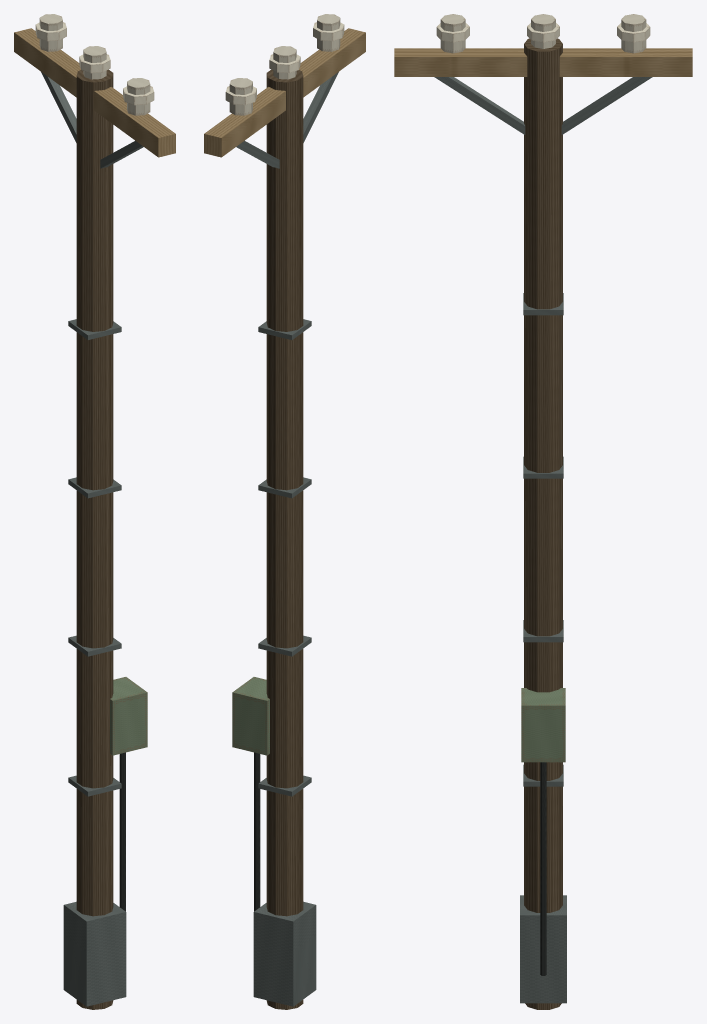
File: BackdropUtilityPole.fbx
3 renders of one model, left to right at view 1: azimuth 30°, elevation 25°; view 2: azimuth 150°, elevation 25°; view 3: azimuth 270°, elevation 25°, orthographic. The views are drawn at different scales.
Parts seen in each view (by area): view 1: BackdropUtilityPole; view 2: BackdropUtilityPole; view 3: BackdropUtilityPole.
Part boxes in pixels (x1,y1,x2,y2): BackdropUtilityPole: [14, 14, 175, 1009]; BackdropUtilityPole: [204, 14, 365, 1009]; BackdropUtilityPole: [394, 14, 692, 1009].
Bounding box in the file's own units: 53 × 781 × 215.
